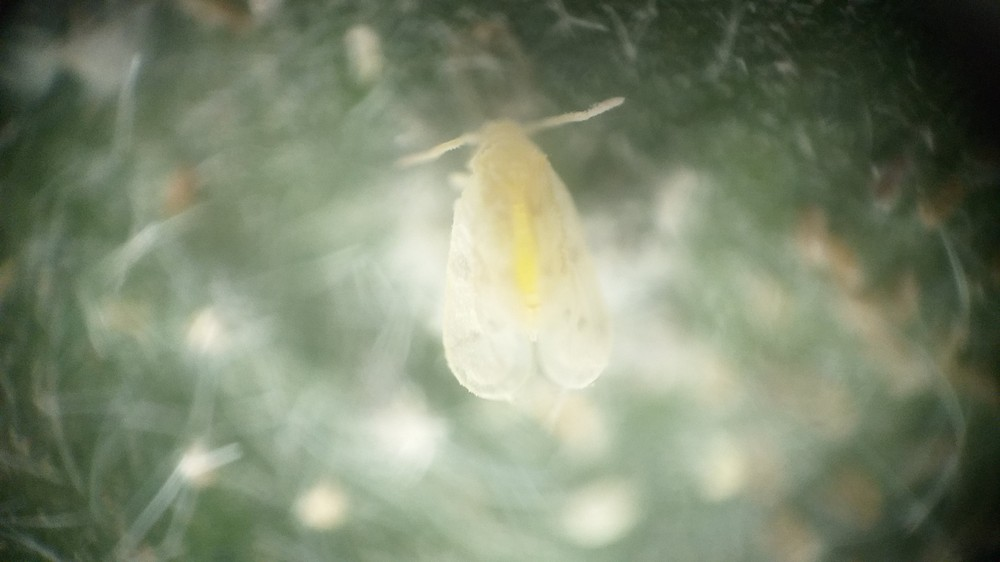Mosca Blanca: (376, 96, 676, 415)
